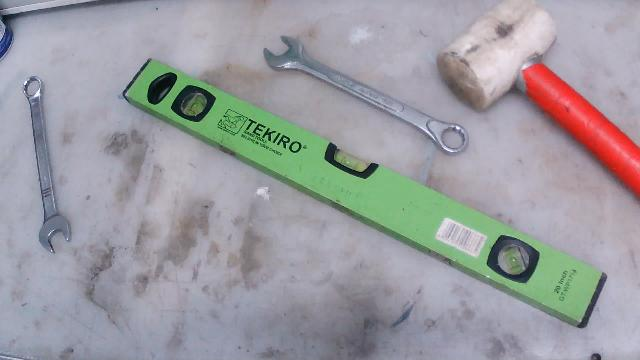water_pass: (95, 49, 619, 342)
